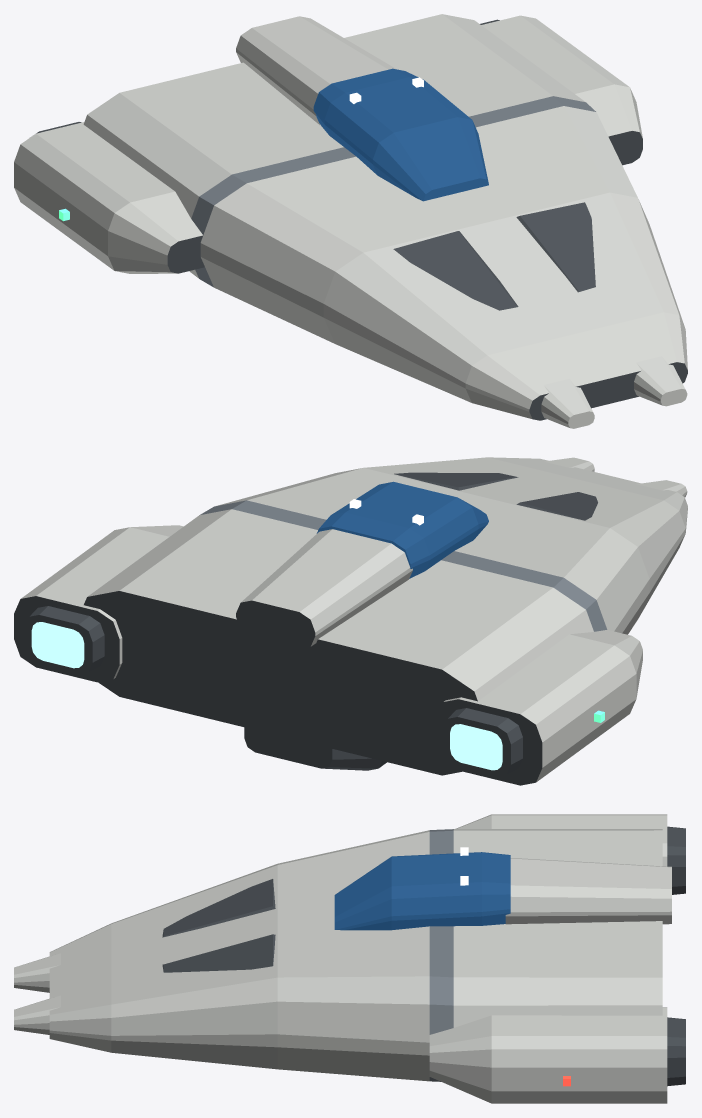
The model's file is viper-mk3.glb.
The picture shows the model from 3 angles, top to bottom: view 1: azimuth 30°, elevation 25°; view 2: azimuth 150°, elevation 25°; view 3: azimuth 270°, elevation 25°; orthographic projection. The views are drawn at different scales.
Visible parts, largest first — view 1: viper-mk3; view 2: viper-mk3; view 3: viper-mk3.
Part boxes in pixels (left/top/right/bottom): viper-mk3: left=14, top=14, right=687, bottom=428; viper-mk3: left=14, top=457, right=687, bottom=785; viper-mk3: left=14, top=814, right=685, bottom=1103.
Size of the model in its own units: 24.61 by 8.99 by 28.37.
